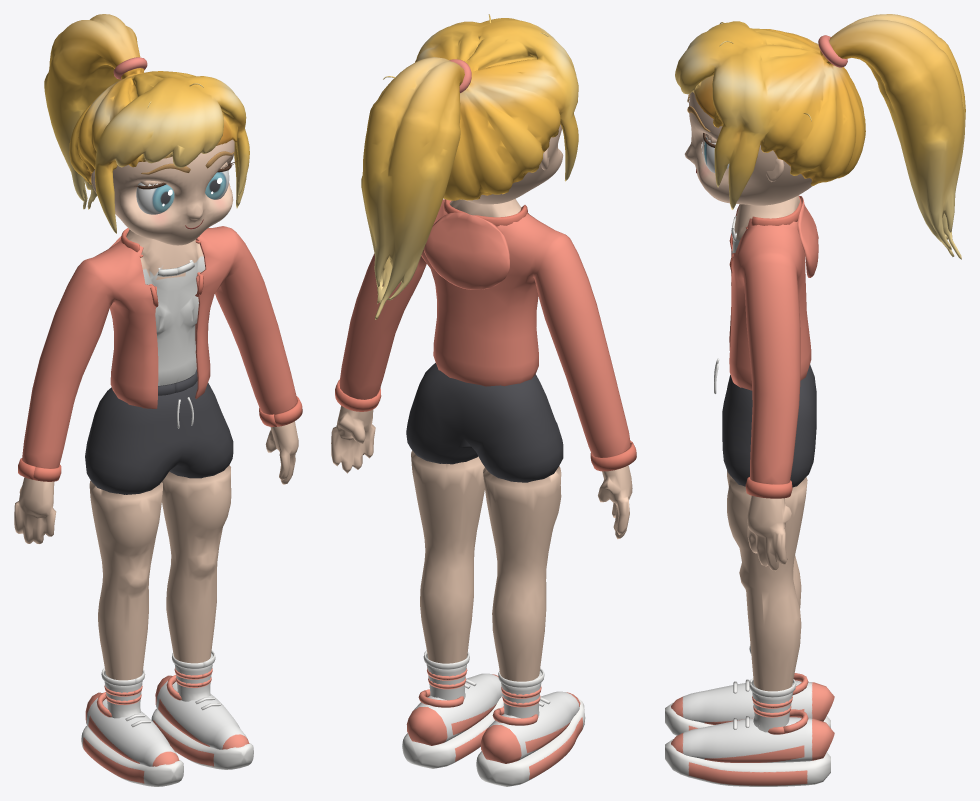
Rendered from character_neutral.glb.
3 views of the same model, side by side, from view 1: azimuth 30°, elevation 25°; view 2: azimuth 150°, elevation 25°; view 3: azimuth 270°, elevation 25° (orthographic). The views are drawn at different scales.
Visible parts, largest first — view 1: CH_Clothes, CH_Body, CH_Hair, CH_Shoes, CH_EyeCornea; view 2: CH_Clothes, CH_Hair, CH_Body, CH_Shoes; view 3: CH_Hair, CH_Clothes, CH_Body, CH_Shoes.
Boxes of the visible parts, x1,y1,x2,y2 form: CH_Clothes: (18, 226, 302, 718); CH_Body: (14, 139, 298, 680); CH_Hair: (44, 14, 249, 233); CH_Shoes: (81, 675, 253, 786); CH_EyeCornea: (151, 172, 227, 213); CH_Clothes: (335, 199, 636, 718); CH_Hair: (361, 14, 578, 319); CH_Body: (331, 124, 632, 681); CH_Shoes: (402, 673, 585, 786); CH_Hair: (675, 14, 965, 259); CH_Clothes: (714, 195, 818, 732); CH_Body: (684, 92, 812, 691); CH_Shoes: (665, 673, 834, 786).
Bounding box in the file's own units: 0.6742 × 1.59 × 0.5871.
Materials: 5 (3 with a texture image).
